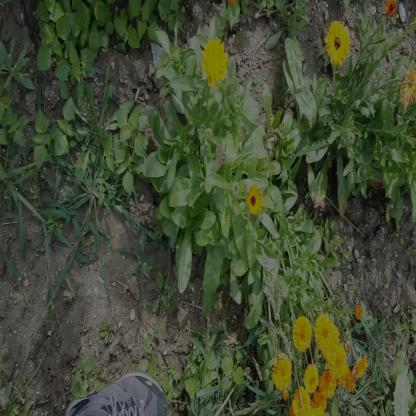marigold: (326, 20, 352, 63), (202, 40, 225, 84), (319, 320, 340, 363), (271, 354, 293, 391), (326, 343, 348, 379), (314, 312, 333, 353), (307, 377, 327, 412), (318, 364, 337, 400), (245, 181, 262, 216), (294, 317, 312, 349), (292, 383, 310, 415), (303, 360, 318, 394), (352, 351, 367, 379)
